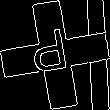P_S: (32, 27, 78, 83)
